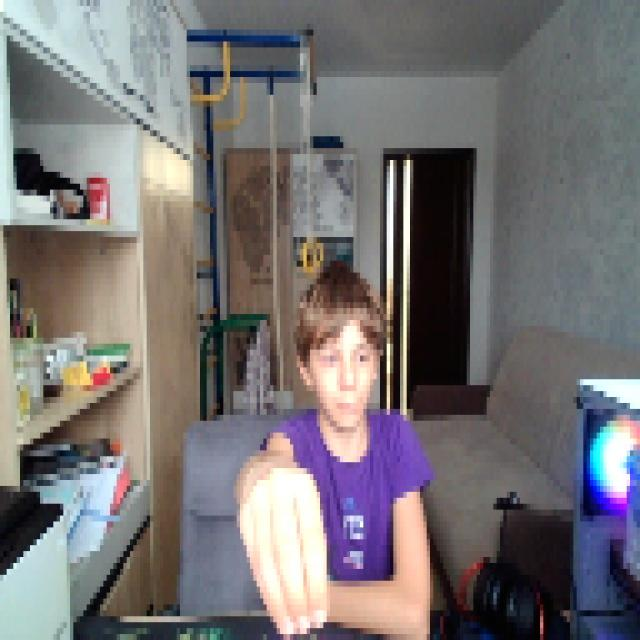left_click: (233, 462, 327, 634)
